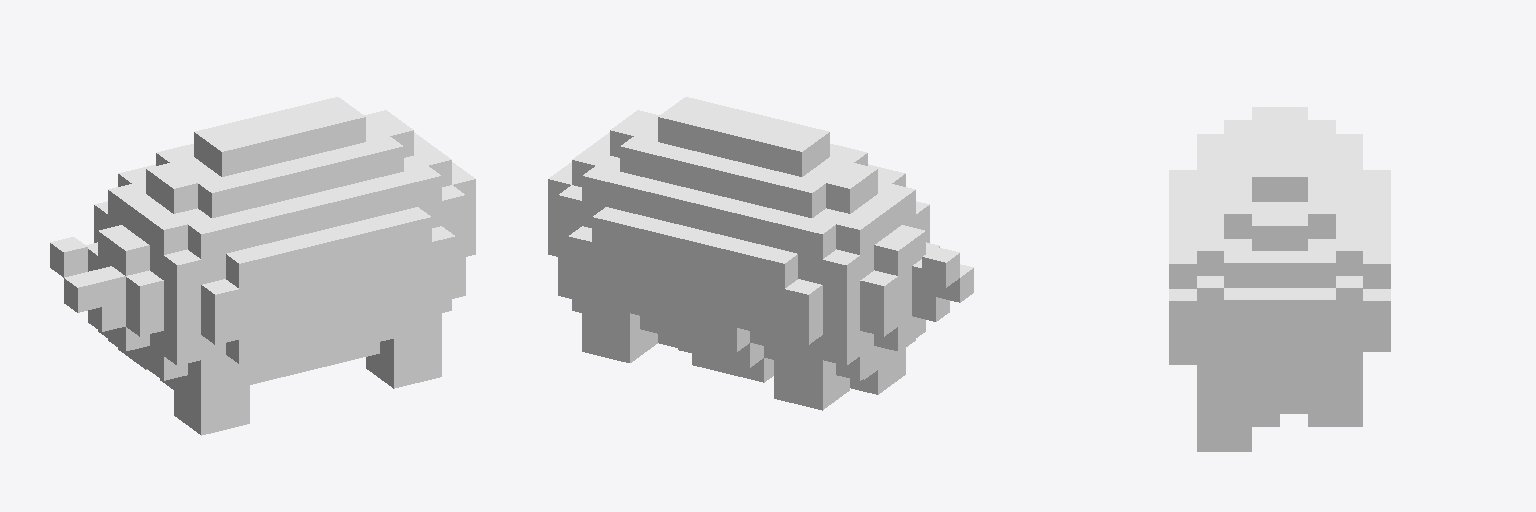
File: PigWalkAnim-1a.obj
3 views of the same model, side by side, from view 1: azimuth 30°, elevation 25°; view 2: azimuth 150°, elevation 25°; view 3: azimuth 270°, elevation 25° (orthographic).
Bounding box in the file's own units: 16 × 10 × 8.